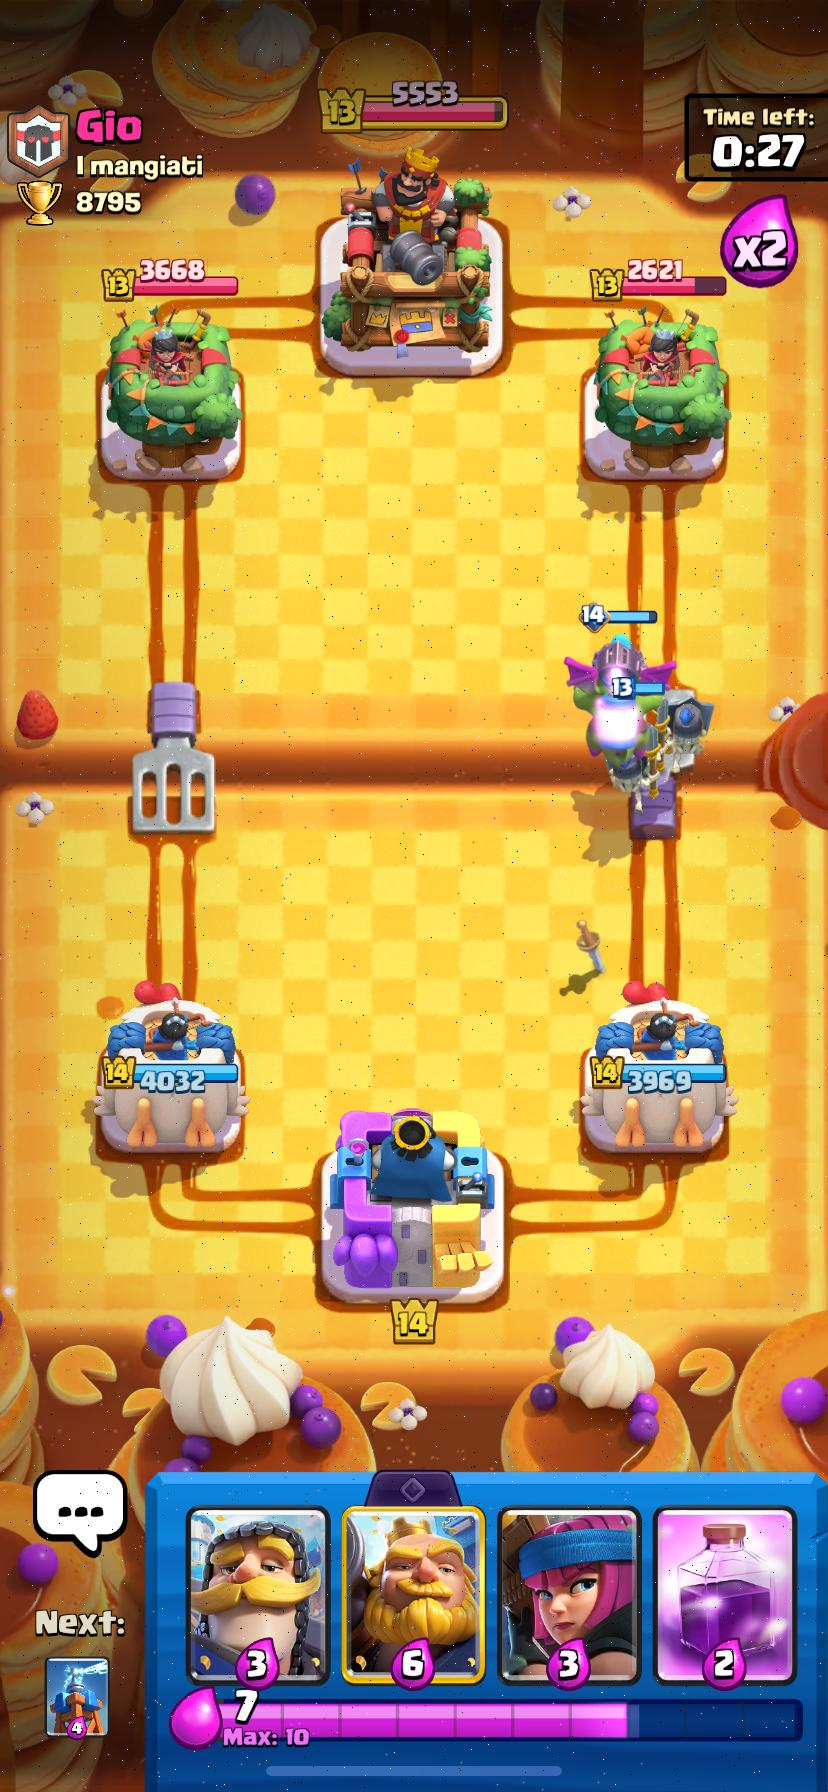EKingTower: (321, 147, 501, 374)
EnemyPrincessTower: (594, 309, 729, 478), (106, 310, 241, 453)
OEVInfernoDrag: (564, 634, 675, 782)
OGuard: (656, 689, 712, 771), (605, 752, 648, 813)
OwnKingTower: (321, 1109, 503, 1303)
OwnPrincessTower: (580, 982, 737, 1153), (93, 982, 248, 1152)
